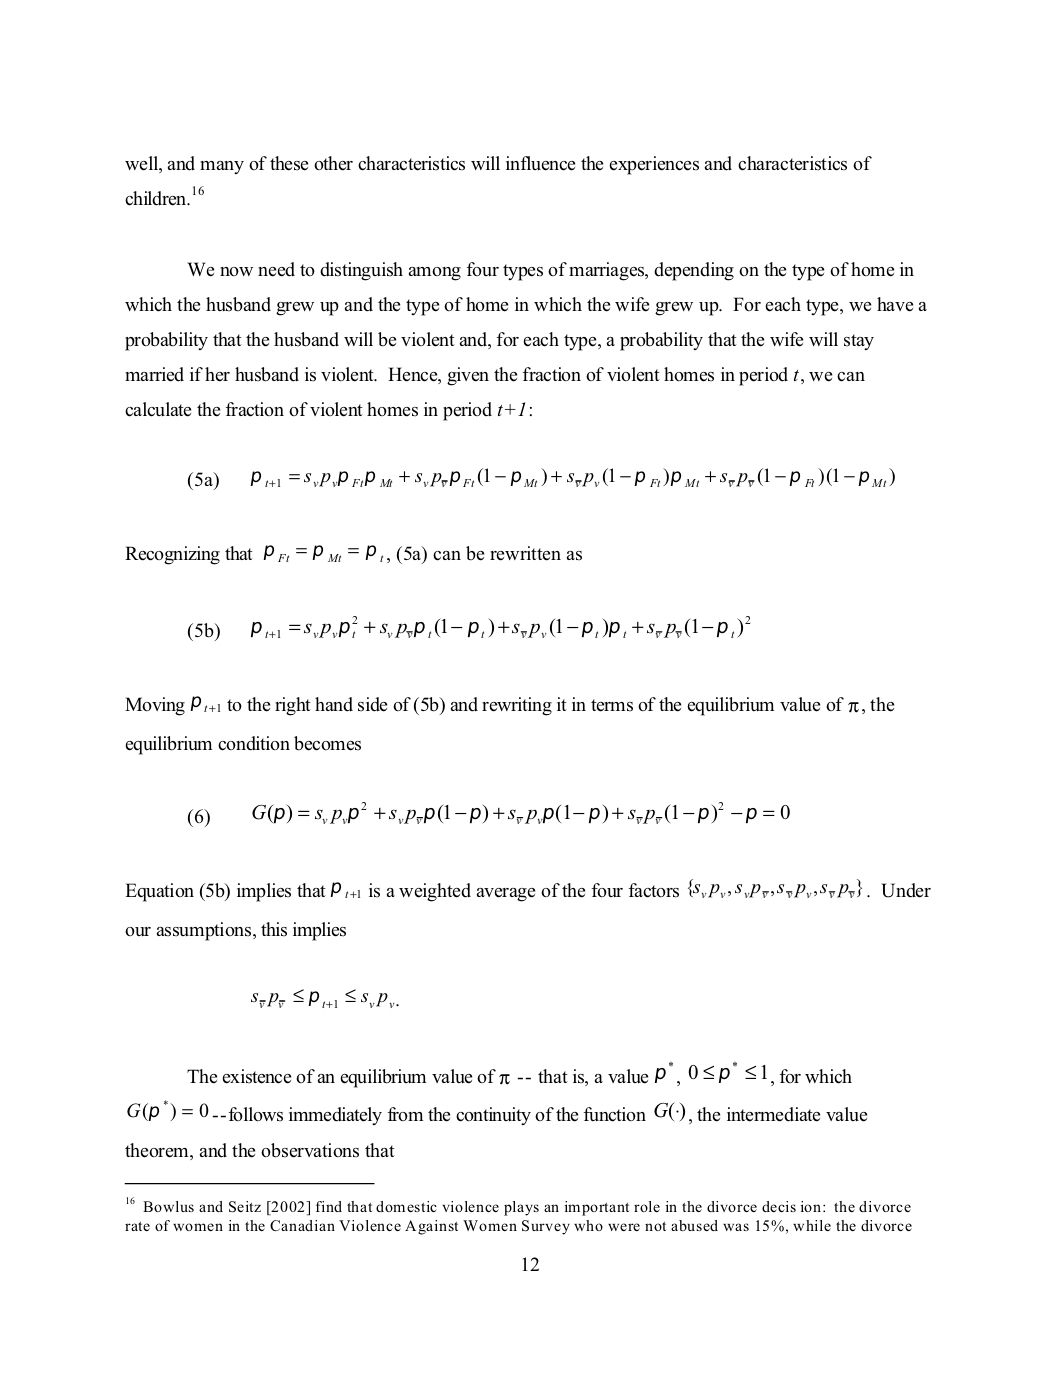figure: (124, 1182, 374, 1185)
formula: (187, 467, 894, 490), (187, 801, 789, 827), (187, 615, 750, 641), (251, 989, 398, 1007)
